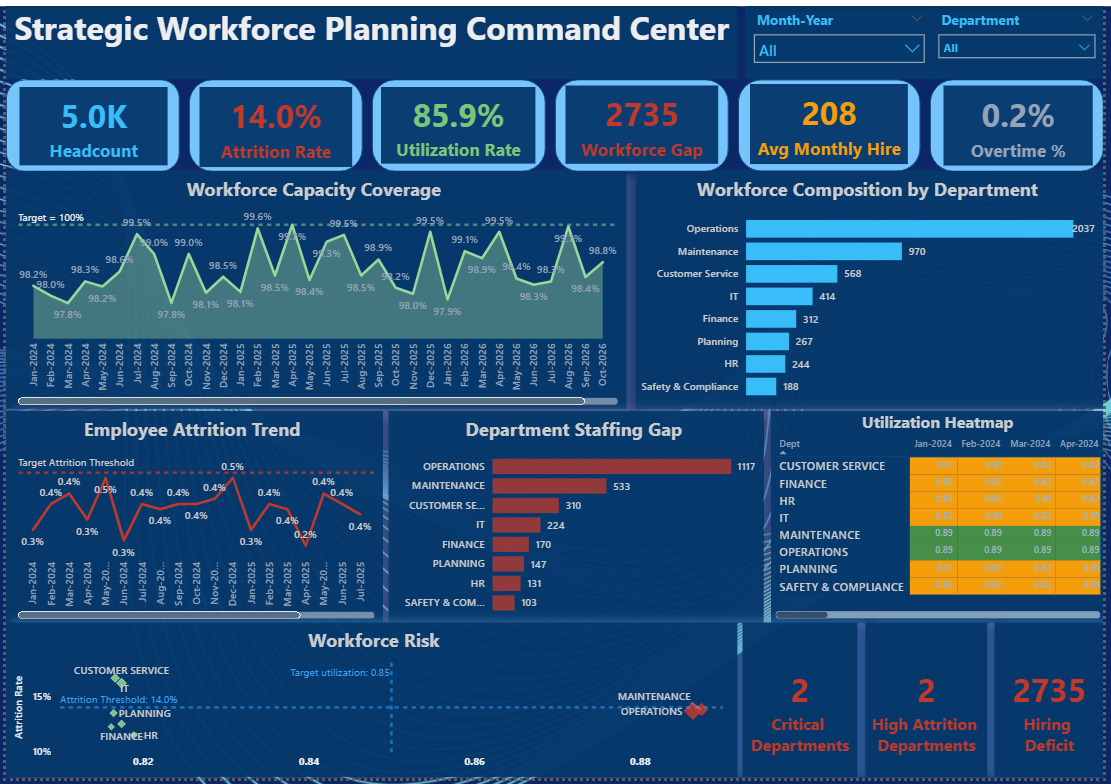

This screenshot's page, from the dashboard's own definition file:
{"tool":"powerbi","page":{"name":"Page 1","canvas":[1280,900],"ordinal":0},"visuals":[{"type":"group","id":"g1","title":"Group 1","box":[0,85.1,202.5,107.3],"z":0},{"type":"shape","box":[0,85.1,202.5,107.3],"z":0,"group":"g1"},{"type":"shape","box":[212.7,85.1,202.5,107.3],"z":500,"group":"g2"},{"type":"shape","box":[427.3,85.1,202.5,107.3],"z":750,"group":"g3"},{"type":"shape","box":[640,85.1,202.5,107.3],"z":812,"group":"g6"},{"type":"shape","box":[1077.5,85.1,202.5,107.3],"z":875,"group":"g4"},{"type":"shape","box":[852.7,85.1,212.7,107],"z":937,"group":"g5"},{"type":"group","id":"g2","title":"Group 2","box":[212.7,85.1,202.5,107.3],"z":1000},{"type":"card","fields":{"Values":["measures_table.Headcount"]},"box":[15,93.2,172.5,91.1],"z":1000,"group":"g1"},{"type":"group","id":"g3","title":"Group 3","box":[427.3,85.1,202.5,107.3],"z":2000},{"type":"group","id":"g4","title":"Group 4","box":[1077.5,85.1,202.5,107.3],"z":3000},{"type":"group","id":"g5","title":"Group 5","box":[852.7,85.1,212.7,107.3],"z":4000},{"type":"group","id":"g6","title":"Group 6","box":[640,85.1,202.5,107.3],"z":5000},{"type":"textbox","title":"Strategic Workforce Planning Command Center","box":[0,0,852.7,85.1],"z":6000},{"type":"slicer","fields":{"Values":["Date_Table.YearMonth"]},"box":[862.8,0,218.7,85.1],"z":7000},{"type":"card","fields":{"Values":["measures_table.Attrition Rate"]},"box":[224.9,93.2,178.2,93.2],"z":7000,"group":"g2"},{"type":"slicer","fields":{"Values":["department.Department_Clean"]},"box":[1077.5,0,202.5,85.1],"z":8000},{"type":"card","fields":{"Values":["measures_table.Utilization Rate"]},"box":[438.5,93.4,180.3,89.1],"z":8000,"group":"g3"},{"type":"card","fields":{"Values":["measures_table.Overtime %"]},"box":[1092.8,91.4,174.2,93.2],"z":9000,"group":"g4"},{"type":"lineChart","title":"Workforce Capacity Coverage","fields":{"Category":["Date_Table.YearMonth"],"Y":["measures_table.Workforce Coverage %"]},"box":[0,192.4,723,277.5],"z":9000},{"type":"card","fields":{"Values":["measures_table.Workforce Gap"]},"box":[651.8,91.4,178.2,91.1],"z":10000,"group":"g6"},{"type":"lineChart","title":"Employee Attrition Trend","fields":{"Category":["Date_Table.YearMonth"],"Y":["measures_table.Attrition Rate"]},"box":[0,471.9,439.5,247.1],"z":10000},{"type":"card","fields":{"Values":["measures_table.Hiring Velocity"]},"box":[866.9,91.2,184.3,93.2],"z":11000,"group":"g5"},{"type":"clusteredBarChart","title":"Workforce Composition by Department","fields":{"Category":["department_distribution.Department"],"Y":["Sum(department_distribution.Headcount)"]},"box":[735.2,192.4,544.8,277.5],"z":11000},{"type":"clusteredBarChart","title":"Department Staffing Gap","fields":{"Category":["department.Dept"],"Y":["measures_table.Department Gap"]},"box":[446.6,471.9,437.5,247.1],"z":12000},{"type":"pivotTable","title":"Utilization Heatmap","fields":{"Columns":["Date_Table.YearMonth"],"Rows":["department.Department_Clean"],"Values":["measures_table.Average Utilization %"]},"box":[891.1,471.9,388.9,247.1],"z":13000},{"type":"scatterChart","title":"Workforce Risk","fields":{"Category":["department.Dept"],"Y":["measures_table.Attrition Rate"],"X":["measures_table.Average Utilization %"],"Size":["measures_table.Headcount"]},"box":[0,719,852.7,180.3],"z":14000},{"type":"card","fields":{"Values":["measures_table.Critical Departments"]},"box":[858.7,719,133.7,180.3],"z":15000},{"type":"card","fields":{"Values":["measures_table.High Attrition Departments"]},"box":[1001.5,719,141.8,180.3],"z":16000},{"type":"card","fields":{"Values":["measures_table.Hiring Deficit"]},"box":[1152.4,719,127.6,180.3],"z":17000}]}

Visuals, with their boxes in screenshot pixels (x1, y1, x2, y2), scaled from the page's 1280x900 canvas onto the 1111x784 screenshot:
"Group 1" group: (0,74,176,168)
shape: (0,74,176,168)
shape: (185,74,360,168)
shape: (371,74,547,168)
shape: (556,74,731,168)
shape: (935,74,1110,168)
shape: (740,74,925,167)
"Group 2" group: (185,74,360,168)
card - measures_table.Headcount: (13,81,163,161)
"Group 3" group: (371,74,547,168)
"Group 4" group: (935,74,1110,168)
"Group 5" group: (740,74,925,168)
"Group 6" group: (556,74,731,168)
"Strategic Workforce Planning Command Center" textbox: (0,0,740,74)
slicer - Date_Table.YearMonth: (749,0,939,74)
card - measures_table.Attrition Rate: (195,81,350,162)
slicer - department.Department_Clean: (935,0,1110,74)
card - measures_table.Utilization Rate: (381,81,537,159)
card - measures_table.Overtime %: (949,80,1100,161)
"Workforce Capacity Coverage" lineChart: (0,168,628,409)
card - measures_table.Workforce Gap: (566,80,720,159)
"Employee Attrition Trend" lineChart: (0,411,381,626)
card - measures_table.Hiring Velocity: (752,79,912,161)
"Workforce Composition by Department" clusteredBarChart: (638,168,1110,409)
"Department Staffing Gap" clusteredBarChart: (388,411,767,626)
"Utilization Heatmap" pivotTable: (773,411,1110,626)
"Workforce Risk" scatterChart: (0,626,740,783)
card - measures_table.Critical Departments: (745,626,861,783)
card - measures_table.High Attrition Departments: (869,626,992,783)
card - measures_table.Hiring Deficit: (1000,626,1110,783)
